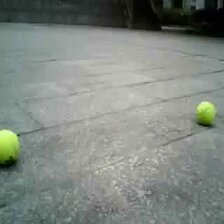tennis: (1, 127, 20, 167), (198, 101, 217, 123)
